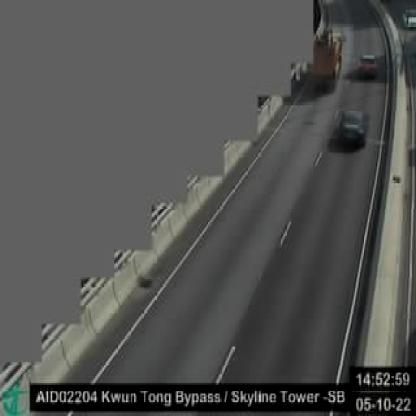Car: (335, 108, 368, 148), (359, 50, 377, 78)
Truck: (308, 30, 341, 88)
